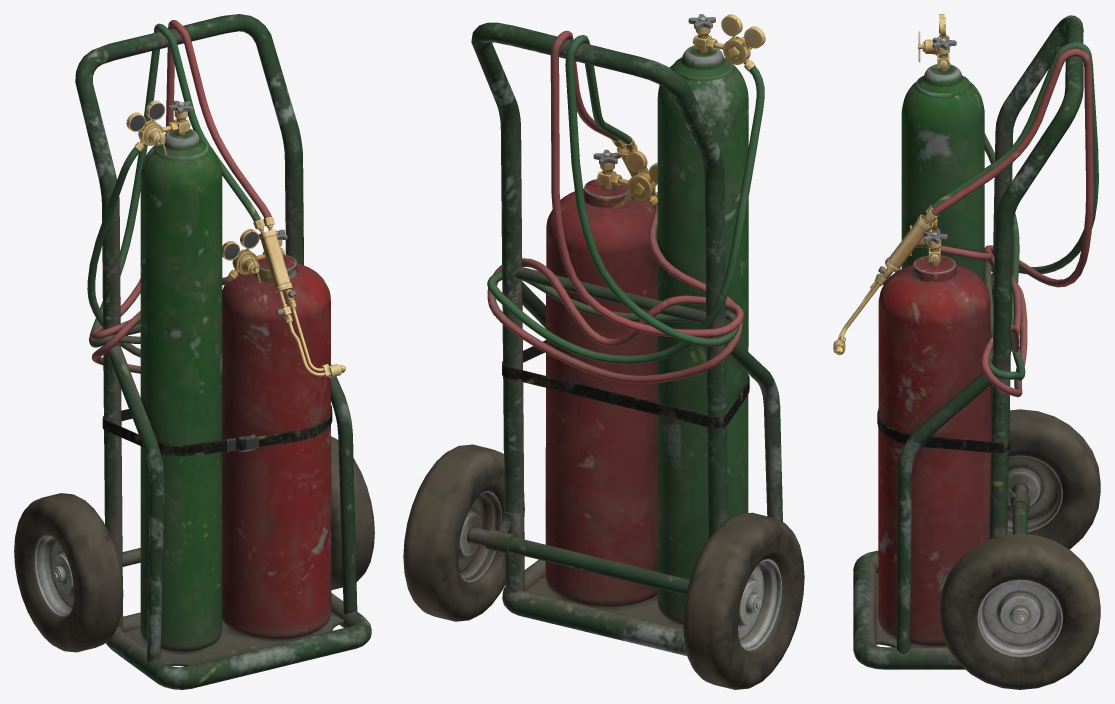
File: portable_welding_cart.glb
3 renders of one model, left to right at view 1: azimuth 30°, elevation 25°; view 2: azimuth 150°, elevation 25°; view 3: azimuth 270°, elevation 25°, orthographic. The views are drawn at different scales.
Parts seen in each view (by area): view 1: portable_welding_cart; view 2: portable_welding_cart; view 3: portable_welding_cart.
Part boxes in pixels (x1,y1,x2,y2): portable_welding_cart: (14, 14, 374, 689); portable_welding_cart: (403, 14, 804, 689); portable_welding_cart: (833, 14, 1100, 689).
Size of the model in its own units: 0.8384 by 1.56 by 0.655.
Materials: 2 (2 with a texture image).
